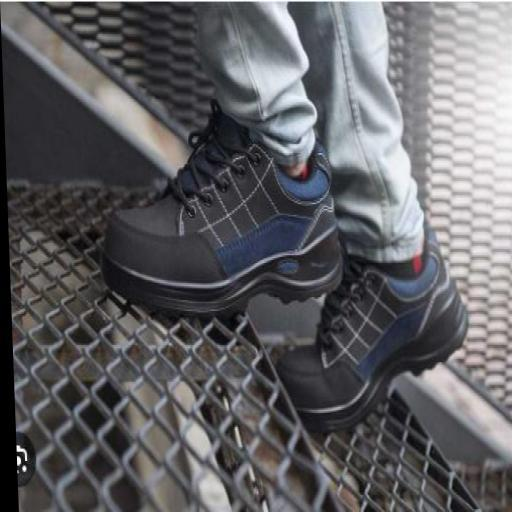safety_boots: (94, 114, 351, 312), (274, 334, 430, 430)
